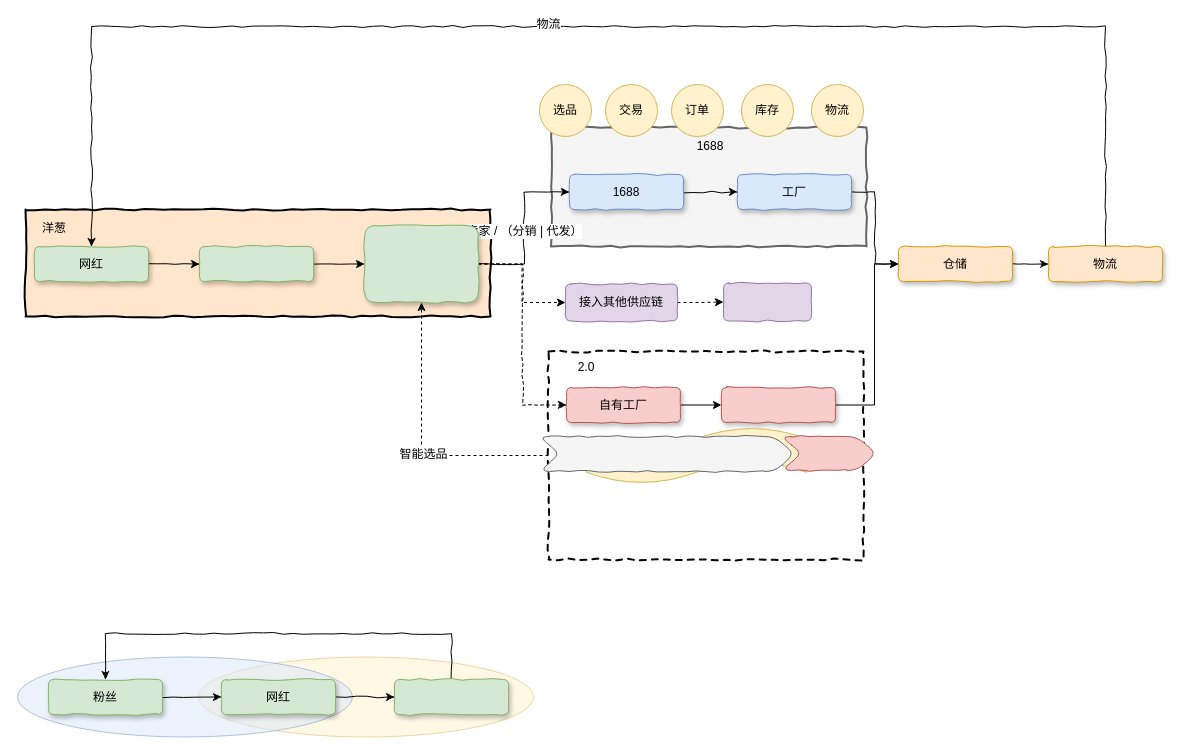
Image size: 1186x755. Some labels were removed from this diagram. The centre of each missing label's shape, as x and y in pixels:
供应链: the point at 452,698
对接erp ！: the point at 828,453
广告逻辑: the point at 767,301
计划 / 物料 / 库存 / sku / 订单 / 物流...: the point at 666,454
超级工厂: the point at 779,406
选品 供应链: the point at 422,265
选品购买: the point at 257,265
